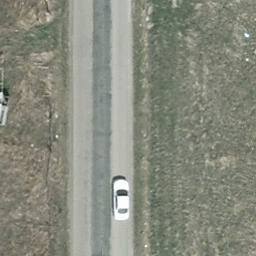car: (112, 178, 132, 222)
